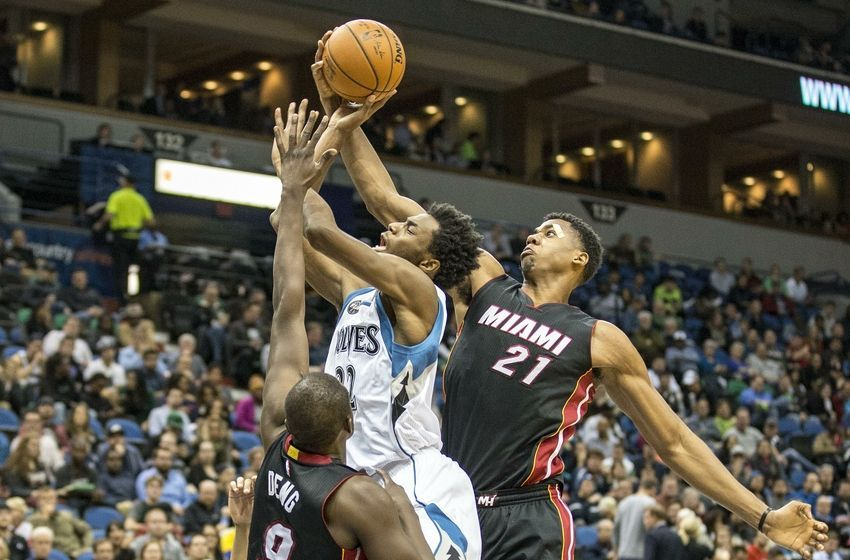block: (312, 0, 679, 553)
defense: (245, 112, 431, 560)
shoot: (286, 10, 485, 560)
